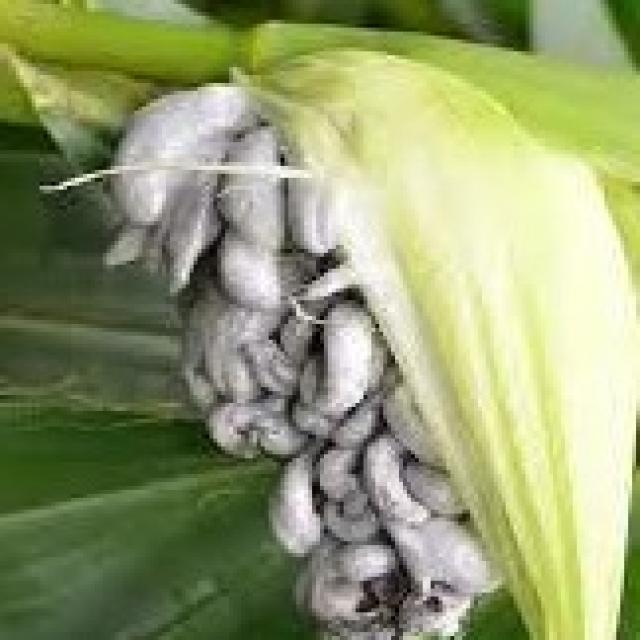Leaf_Scald: (24, 46, 640, 640)
